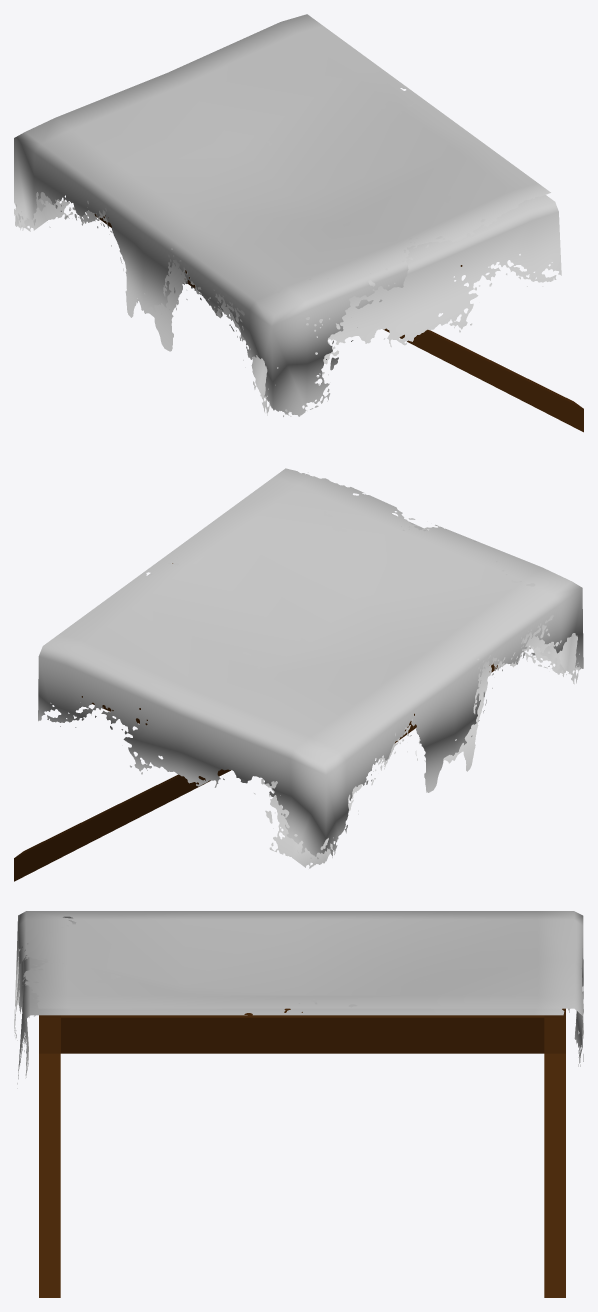
Rendered from H_addon_5.FBX.
3 views of the same model, one above another, from view 1: azimuth 30°, elevation 25°; view 2: azimuth 150°, elevation 25°; view 3: azimuth 270°, elevation 25° (orthographic). The views are drawn at different scales.
Visible parts, largest first — view 1: Object01; view 2: Object01; view 3: Object01.
Part boxes in pixels (x1,y1,x2,y2): Object01: [14, 14, 583, 432]; Object01: [14, 468, 583, 881]; Object01: [14, 911, 583, 1297].
Bounding box in the file's own units: 178 × 131 × 249.
